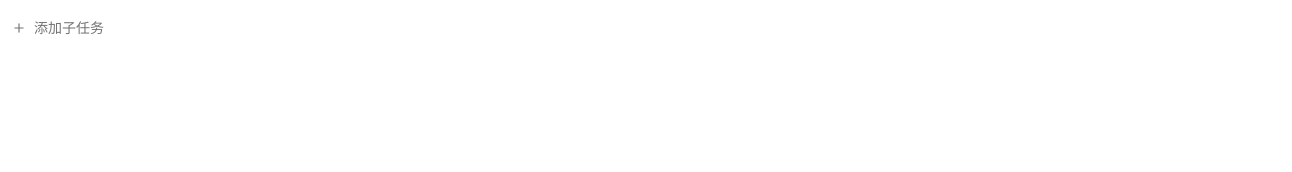
Test: creates consecutive subtasks on Enter and keeps an empty focused entry below them
Later steps or results of the test are not shown.
Click the button "添加子任务".
click(58, 28)  # box [12,12,104,44]
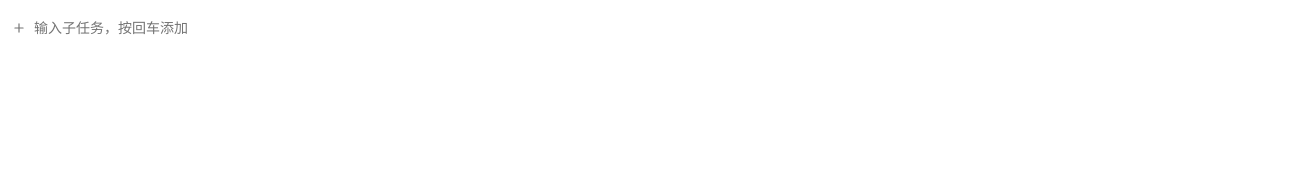
Type "核对需求" into the field named "新子任务".
click(656, 28); type("核对需求")  # box [34,14,1277,42]
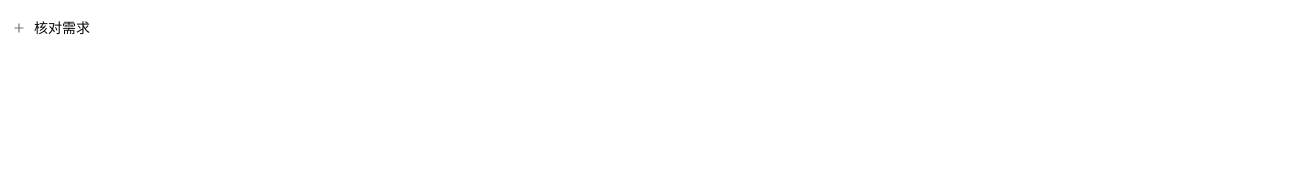
Press Enter in the field named "新子任务", box [34,14,1277,42]
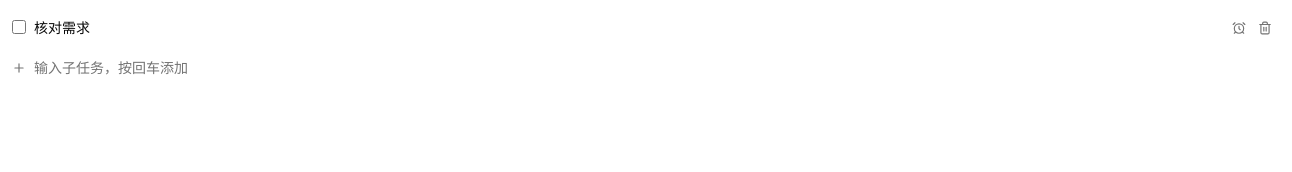
Type "整理交付材料" into the field named "新子任务".
click(656, 68); type("整理交付材料")  # box [34,54,1277,82]
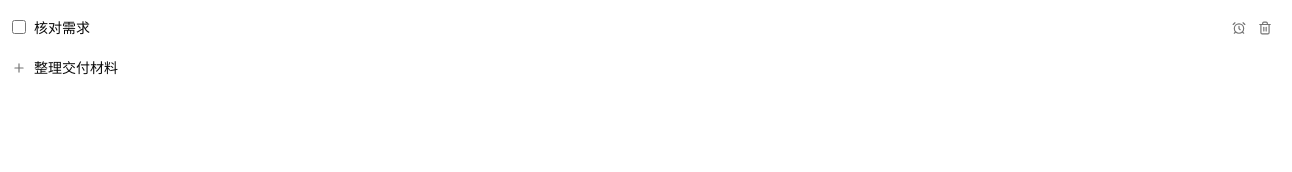
Press Enter in the field named "新子任务", box [34,54,1277,82]
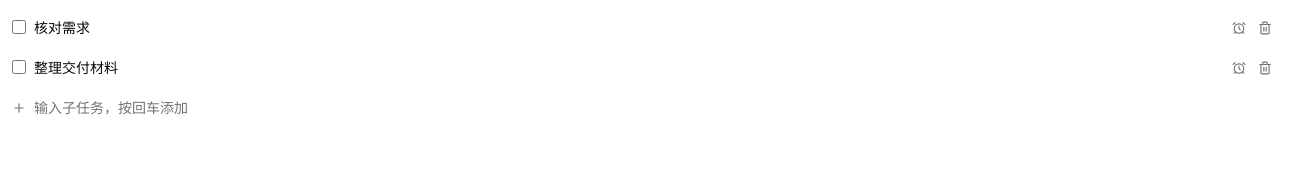
Press Enter in the field named "新子任务", box [34,94,1277,122]
Now the number of checkboxes is 2, box [12,20,26,34]; [12,60,26,74]
Now the field named "新子任务" is empty, box [34,94,1277,122]
